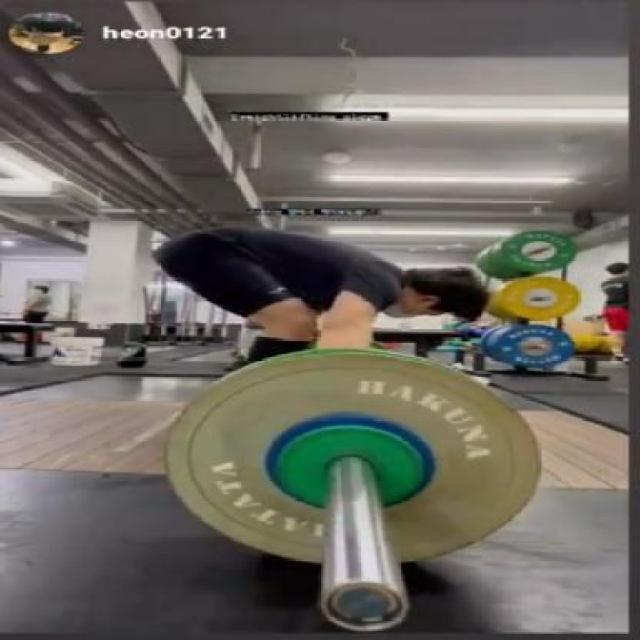Barbell: (317, 577, 412, 634)
